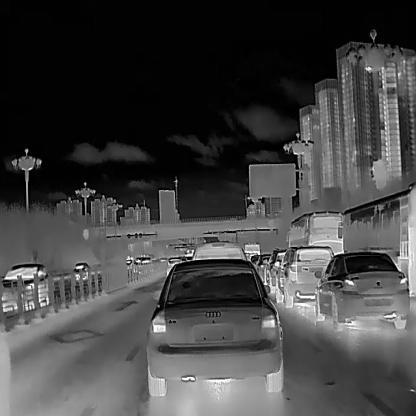car: (144, 256, 284, 396), (336, 181, 416, 298), (312, 248, 409, 330), (274, 245, 336, 307), (285, 208, 345, 256), (0, 261, 52, 310), (192, 239, 246, 261), (263, 247, 289, 292), (72, 260, 90, 280), (166, 256, 186, 274), (243, 240, 262, 258)
